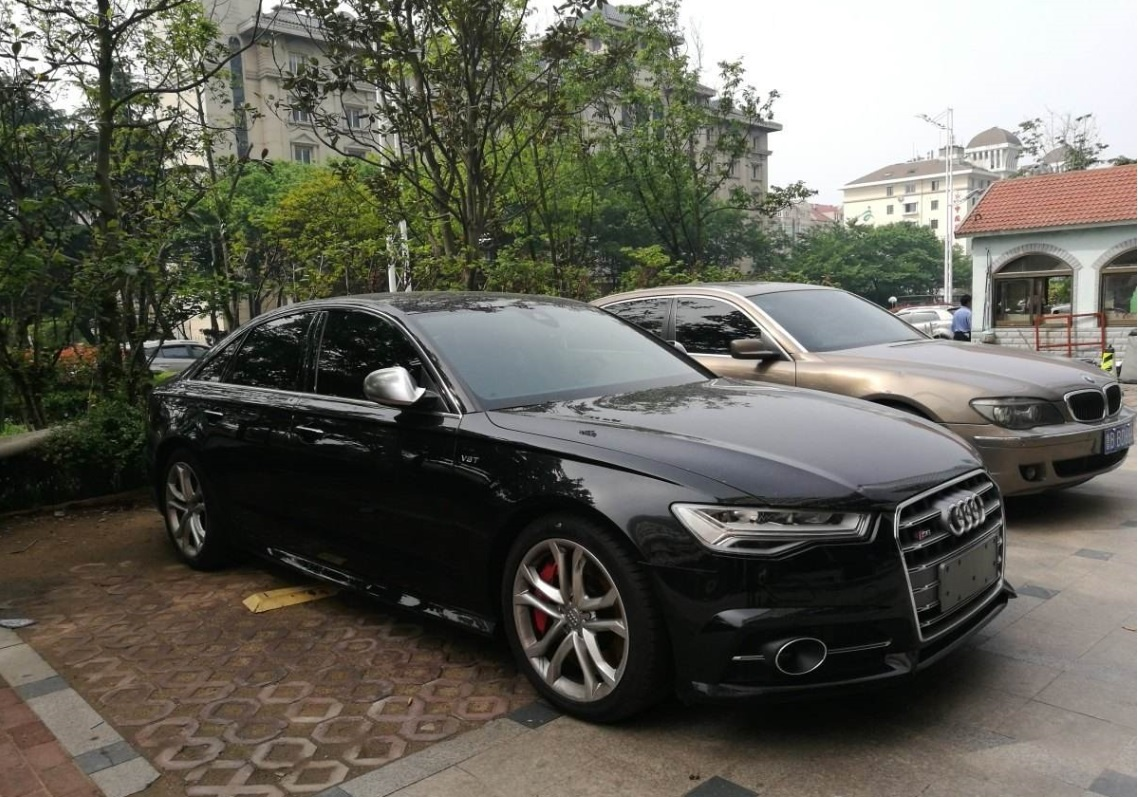family sedan: (151, 260, 1013, 714)
